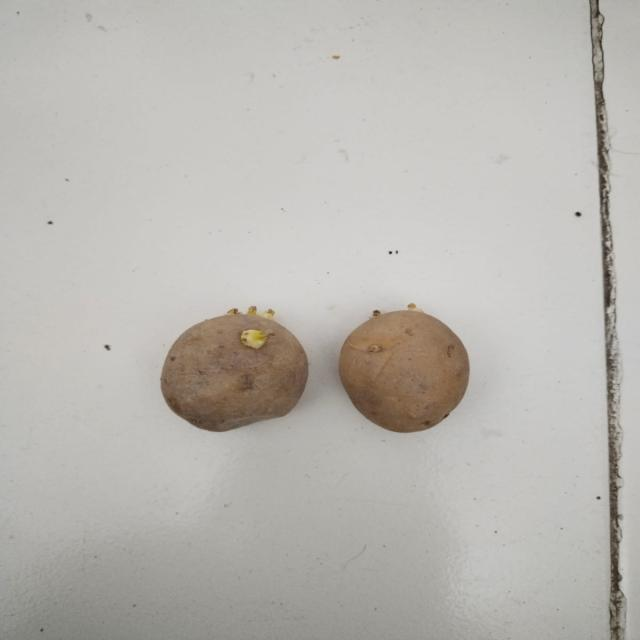poteto: (150, 291, 328, 450), (340, 293, 484, 454)
